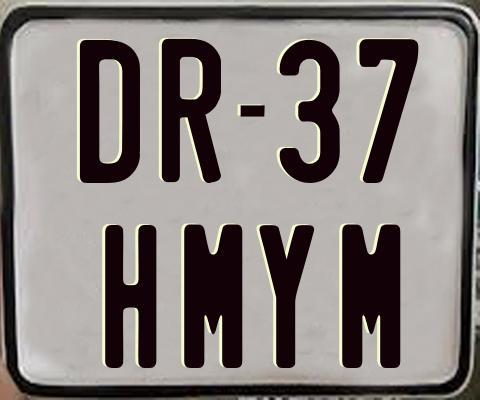3: (280, 38, 346, 181)
7: (357, 36, 419, 185)
D: (80, 37, 140, 185)
H: (102, 223, 157, 372)
M: (183, 223, 247, 368), (340, 222, 403, 366)
R: (160, 39, 224, 184)
Y: (258, 224, 318, 367)
